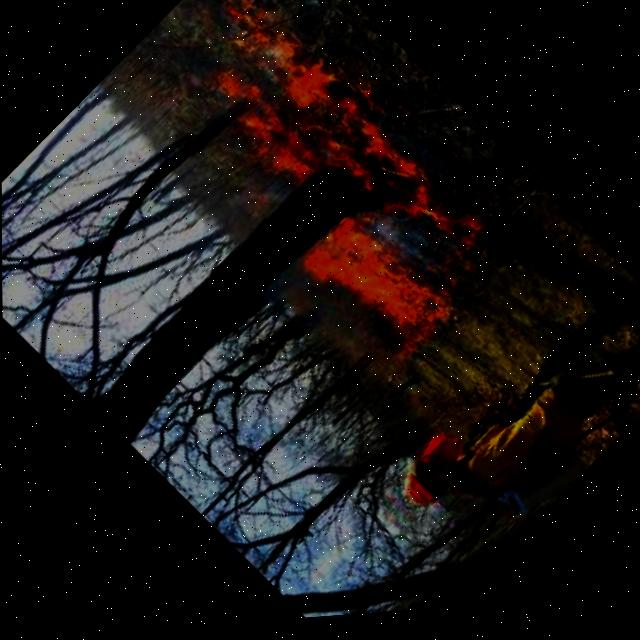Fire: (156, 0, 513, 384)
Smoke: (195, 0, 505, 321), (279, 189, 463, 387), (190, 66, 326, 212)
